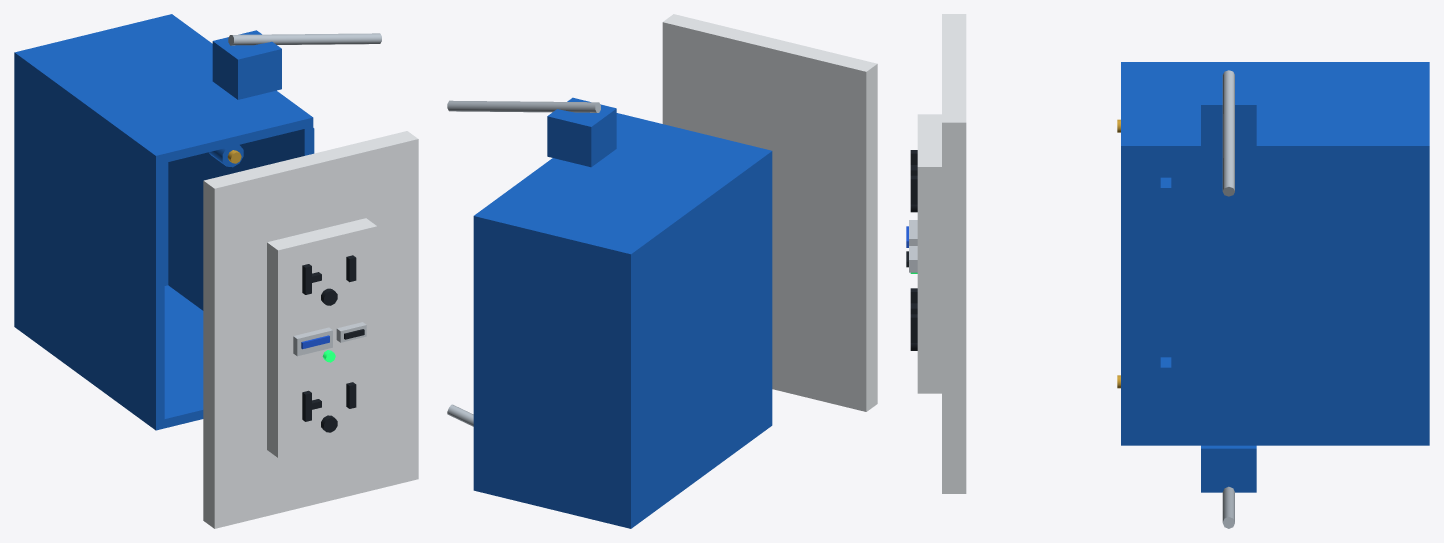
The picture shows the model from 3 angles, left to right: view 1: azimuth 30°, elevation 25°; view 2: azimuth 150°, elevation 25°; view 3: azimuth 270°, elevation 25°; orthographic projection. The views are drawn at different scales.
Parts seen in each view (by area): view 1: cad-box-single-gang-deep, cad-device-usb-duplex-20a; view 2: cad-box-single-gang-deep, cad-device-usb-duplex-20a; view 3: cad-box-single-gang-deep, cad-device-usb-duplex-20a.
Boxes of the visible parts, x1,y1,x2,y2 form: cad-box-single-gang-deep: (14,14,381,430); cad-device-usb-duplex-20a: (203,131,418,528); cad-box-single-gang-deep: (447,97,772,528); cad-device-usb-duplex-20a: (662,14,877,411); cad-box-single-gang-deep: (1117,62,1429,528); cad-device-usb-duplex-20a: (906,14,966,493).
Bounding box in the file's own units: 0.1078 × 0.1328 × 0.1506.
